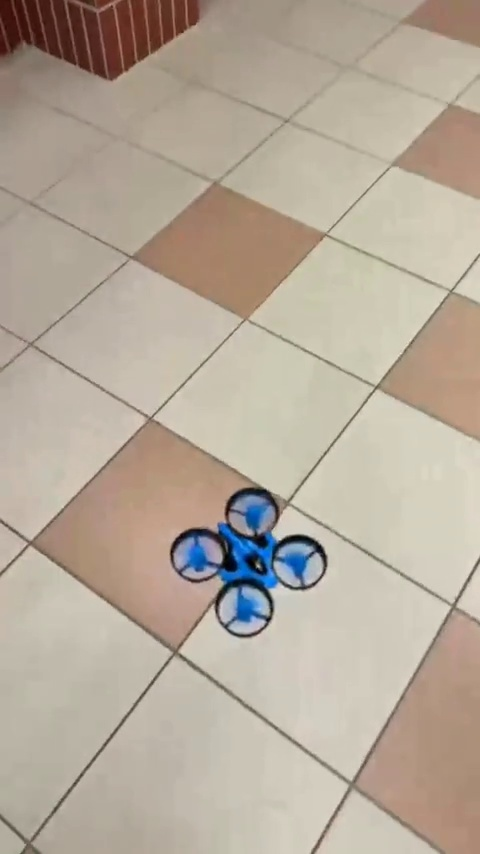drone: (167, 490, 330, 629)
